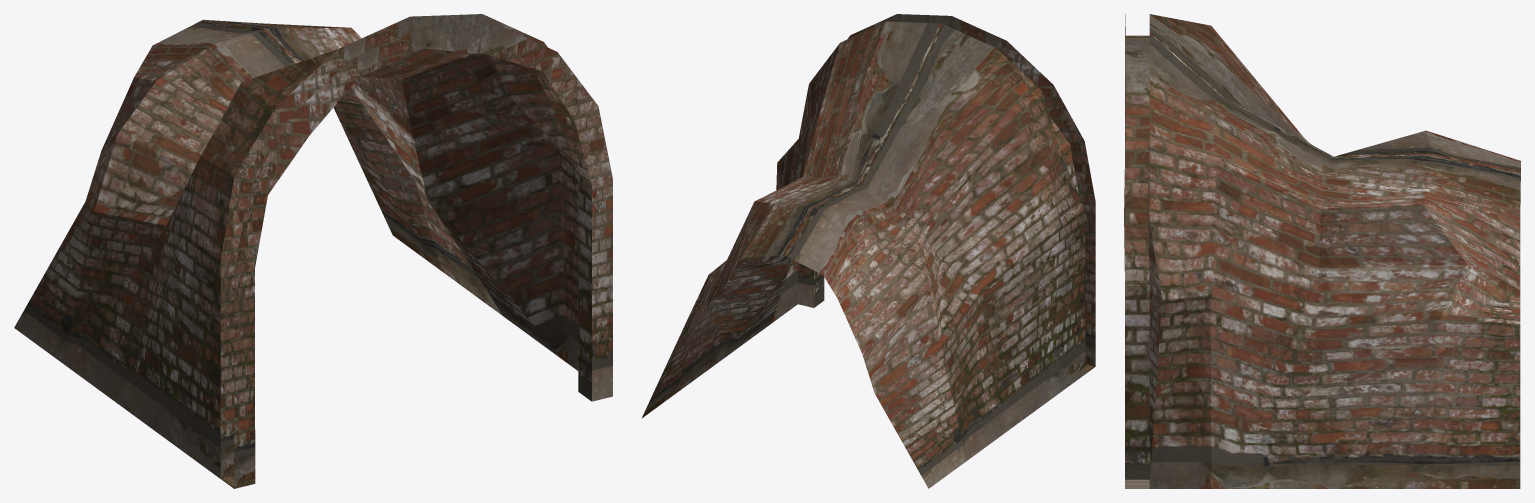
File: tunnel_Wall3_Deformed_GEO.fbx
3 renders of one model, left to right at view 1: azimuth 30°, elevation 25°; view 2: azimuth 150°, elevation 25°; view 3: azimuth 270°, elevation 25°, orthographic. The views are drawn at different scales.
Parts seen in each view (by area): view 1: tunnel_Wall3_Deformed_GEO; view 2: tunnel_Wall3_Deformed_GEO; view 3: tunnel_Wall3_Deformed_GEO.
Boxes of the visible parts, x1,y1,x2,y2 form: tunnel_Wall3_Deformed_GEO: (14, 14, 612, 488); tunnel_Wall3_Deformed_GEO: (641, 14, 1095, 488); tunnel_Wall3_Deformed_GEO: (1124, 14, 1520, 488).
Size of the model in its own units: 5 by 5.25 by 5.05.
